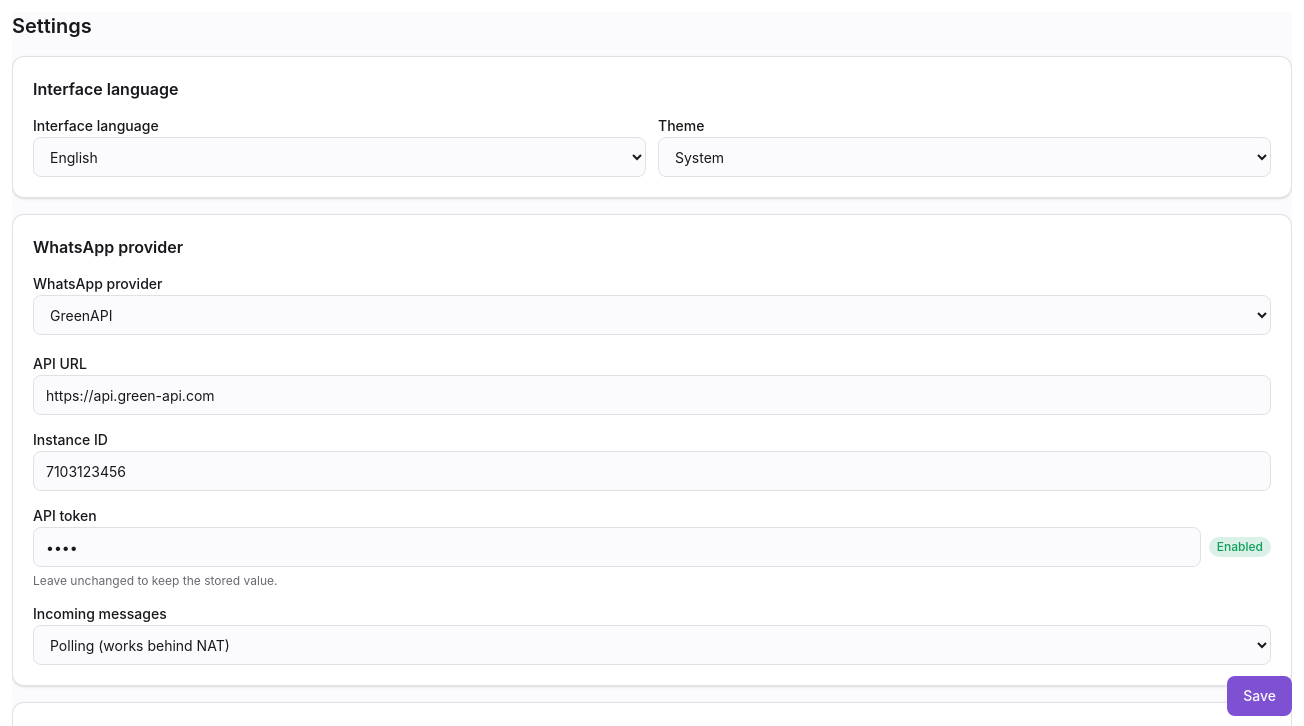
Test case: provider fields › swaps the field set when the provider changes
Check: the field showing "7103123456" is shown, box [33,451,1271,491]
Select "GOWA (self-hosted)" in the dropdown labelled "WhatsApp provider": (652, 315) [33,295,1271,335]
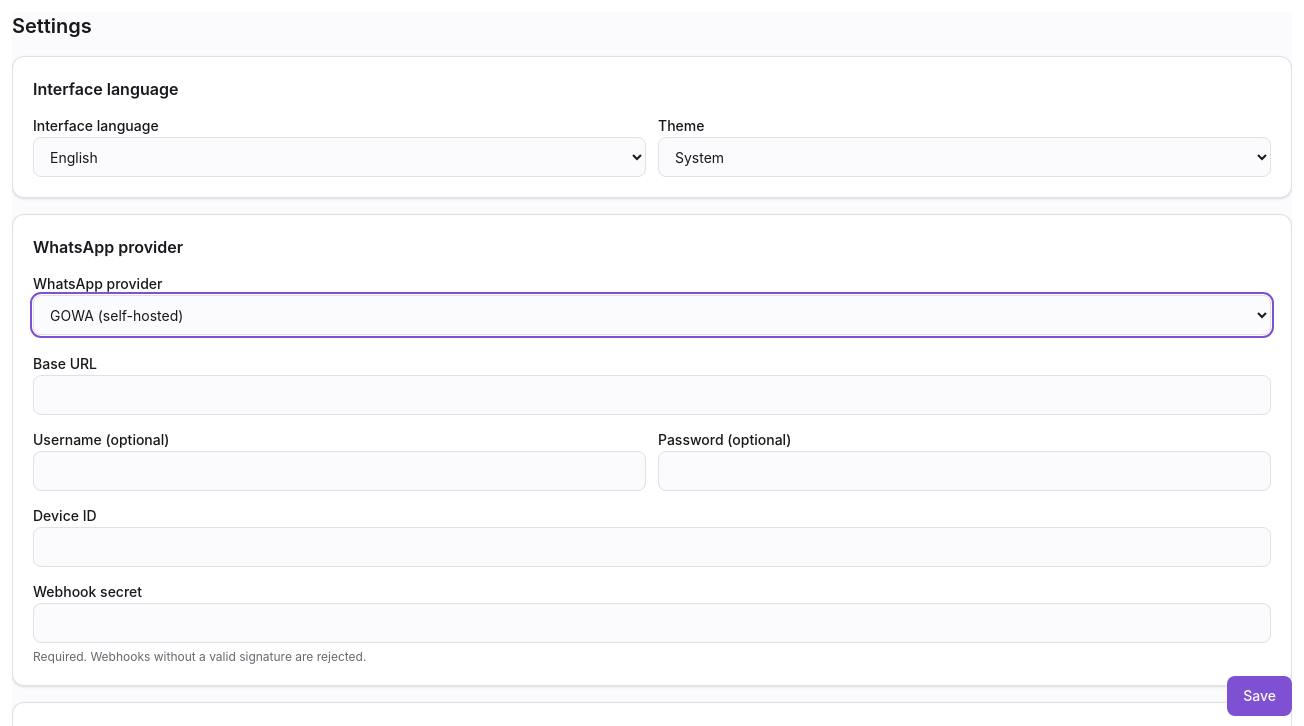
Check: the field showing "7103123456" is not shown
Check: the text "Base URL" is shown, box [33,355,97,372]
Check: the text "Webhook secret" is shown, box [33,583,142,600]
